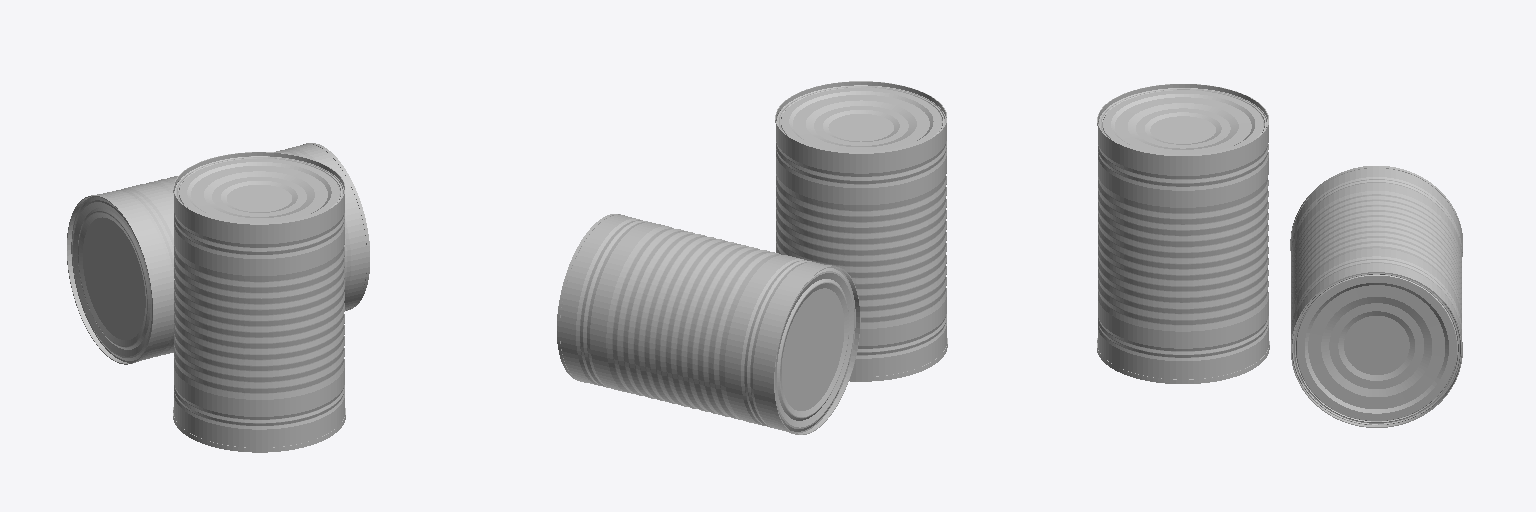
The model's file is tinCan.obj.
3 views of the same model, side by side, from view 1: azimuth 30°, elevation 25°; view 2: azimuth 150°, elevation 25°; view 3: azimuth 270°, elevation 25° (orthographic).
Parts seen in each view (by area): view 1: Can.001_Circle.001, Can.002_Circle.002; view 2: Can.002_Circle.002, Can.001_Circle.001; view 3: Can.001_Circle.001, Can.002_Circle.002.
Boxes of the visible parts, x1,y1,x2,y2 form: Can.001_Circle.001: [173, 152, 345, 452]; Can.002_Circle.002: [67, 143, 369, 364]; Can.002_Circle.002: [557, 214, 860, 434]; Can.001_Circle.001: [775, 81, 947, 381]; Can.001_Circle.001: [1097, 84, 1269, 383]; Can.002_Circle.002: [1290, 166, 1462, 427].
Bounding box in the file's own units: 0.0865 × 0.0786 × 0.1146.